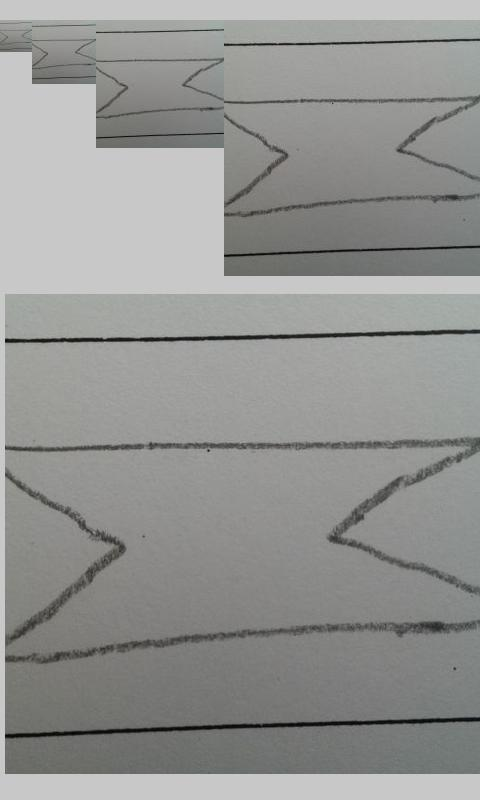edit_text: (3, 437, 479, 662), (226, 97, 479, 218), (97, 58, 223, 117), (32, 39, 94, 69), (1, 29, 31, 45)
